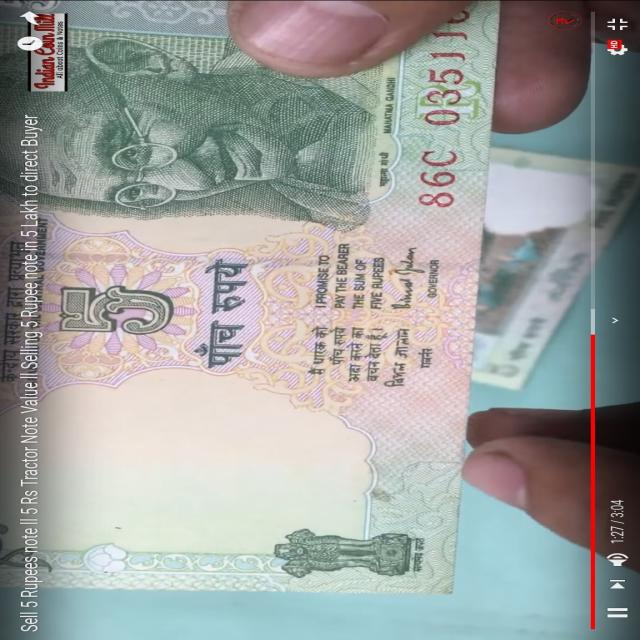5IndianRupees: (1, 2, 484, 583)
